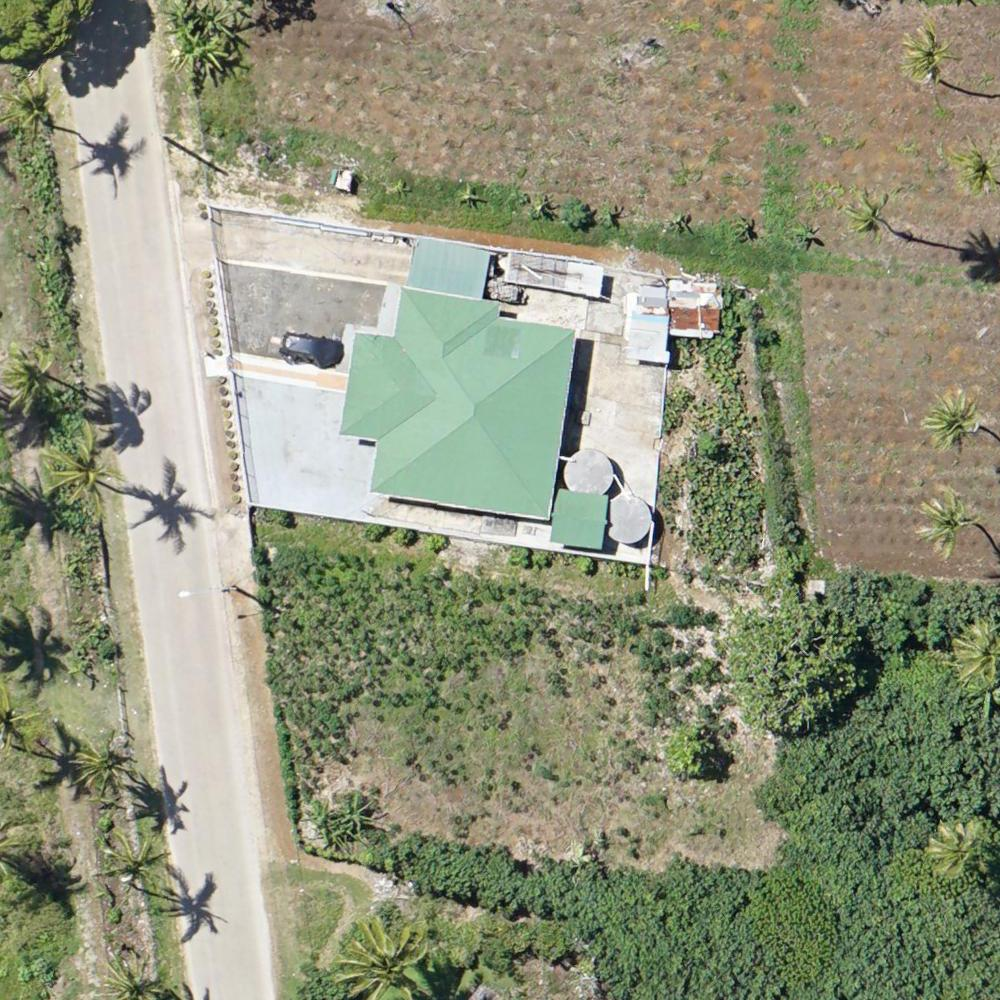not plam: (455, 655, 524, 719), (568, 76, 631, 138), (794, 772, 858, 832), (741, 643, 800, 706), (671, 197, 735, 255), (528, 180, 588, 241), (528, 913, 591, 971), (658, 906, 719, 963), (780, 921, 840, 977), (668, 724, 721, 779)
